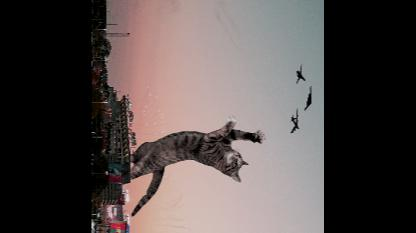AV8B: (297, 62, 306, 83)
B1: (305, 84, 312, 110)
B2: (291, 106, 300, 132)
